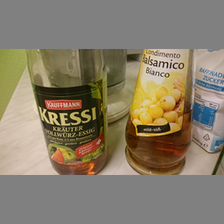vinegar: (24, 48, 113, 176), (127, 47, 194, 175)
